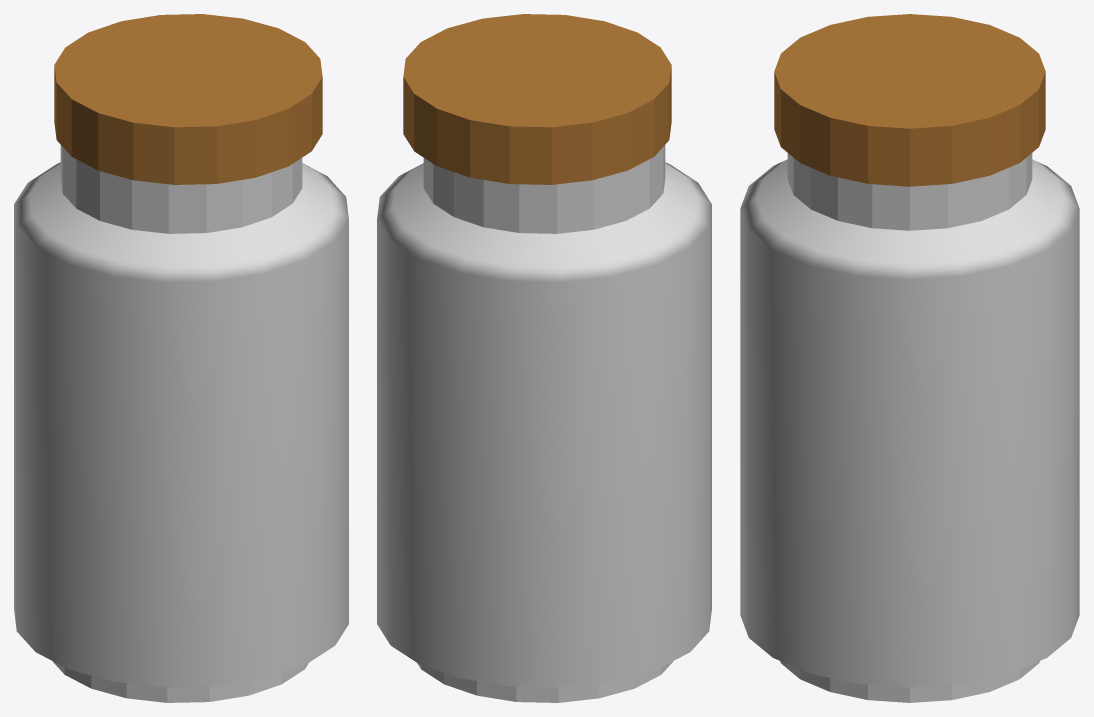
Rendered from jamjar.fbx.
The picture shows the model from 3 angles, left to right: view 1: azimuth 30°, elevation 25°; view 2: azimuth 150°, elevation 25°; view 3: azimuth 270°, elevation 25°; orthographic projection.
Parts seen in each view (by area): view 1: Jam_jar:polySurface3, Jam_jar:polySurface2; view 2: Jam_jar:polySurface3, Jam_jar:polySurface2; view 3: Jam_jar:polySurface3, Jam_jar:polySurface2.
Boxes of the visible parts, <box> form: Jam_jar:polySurface3: <box>14,145,348,702</box>; Jam_jar:polySurface2: <box>54,14,322,184</box>; Jam_jar:polySurface3: <box>377,145,711,702</box>; Jam_jar:polySurface2: <box>403,14,671,184</box>; Jam_jar:polySurface3: <box>740,153,1079,702</box>; Jam_jar:polySurface2: <box>774,14,1045,186</box>.
Bounding box in the file's own units: 2.09 × 3.93 × 2.09.
